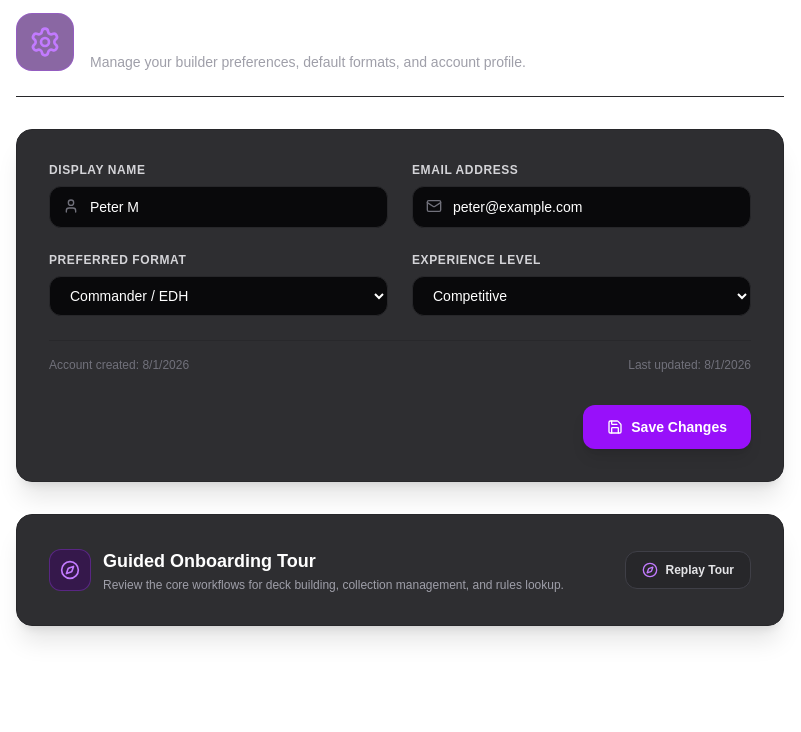
Scenario: SettingsClient Component › loads profile and updates profile fields upon form submit
Expected: the field showing "peter@example.com" is shown, [412,186,751,228]
Replace the text in the field labelled "Display Name" with "Peter The Builder" at (218, 207), box [49,186,388,228]
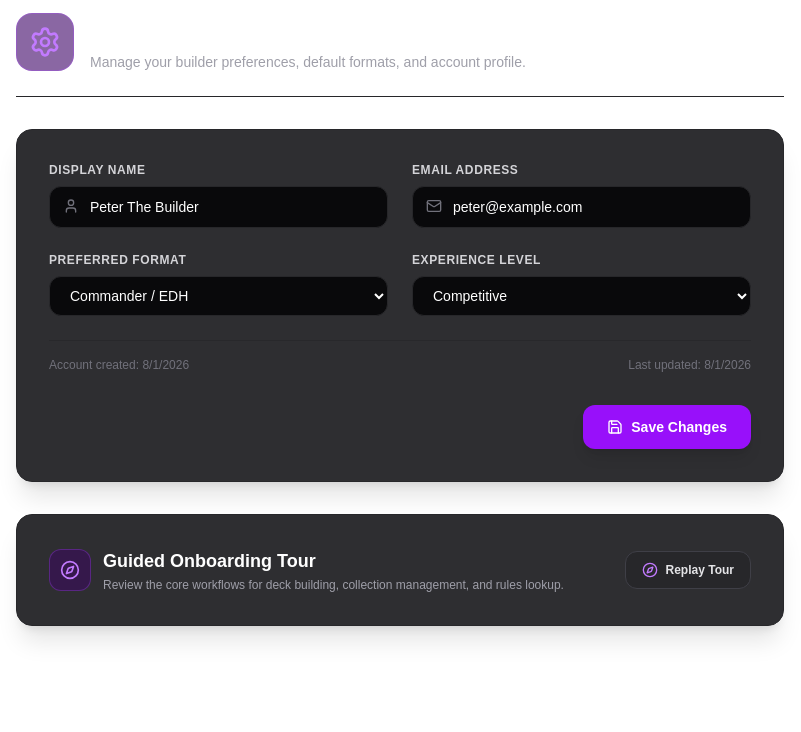
Select "Modern" in the dropdown labelled "Preferred Format" at (218, 296), box [49,276,388,316]
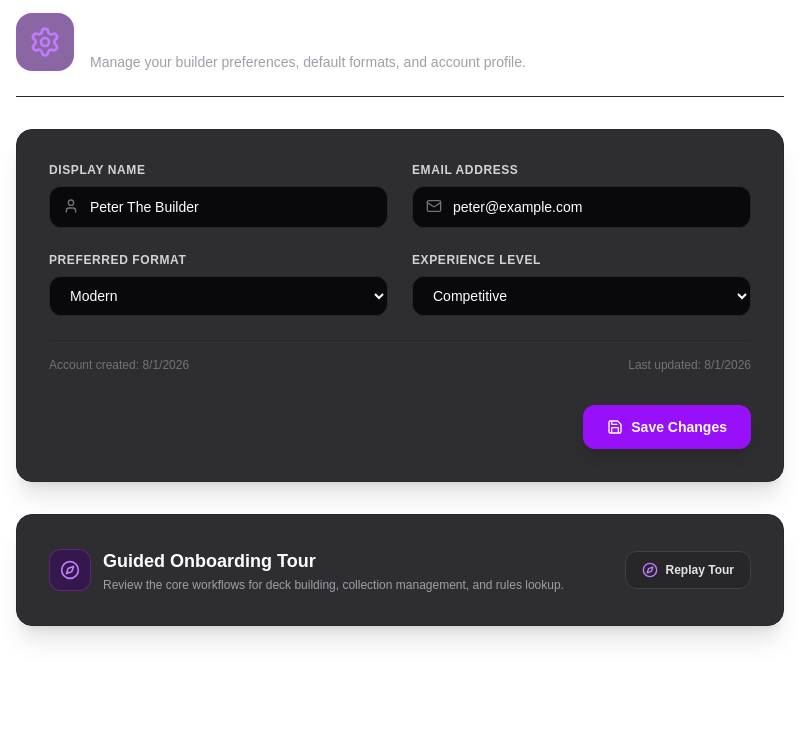
Click the button "Save Changes" at (667, 427), box [583,405,751,449]
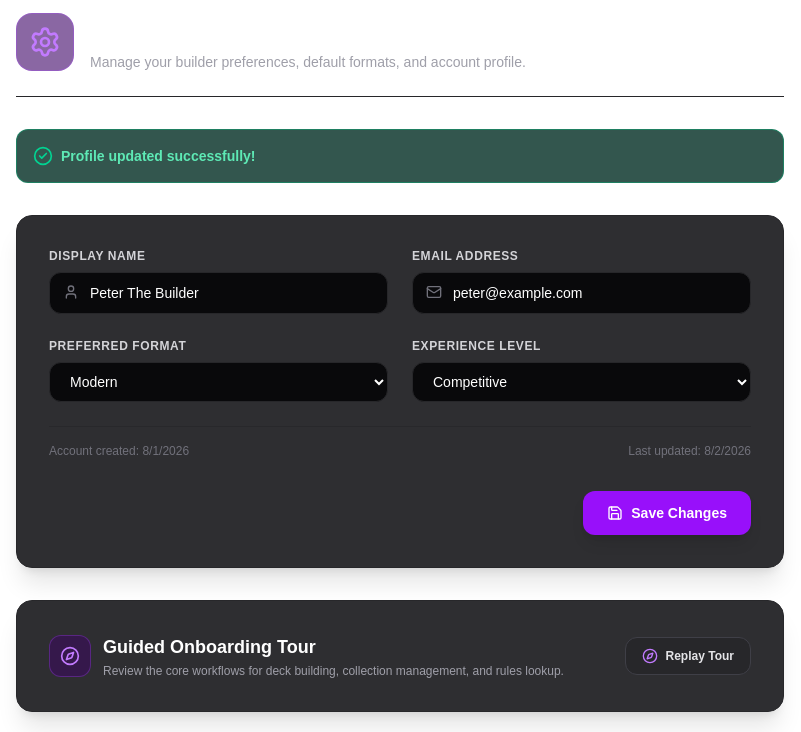
Now the text "Profile updated successfully!" is shown, box [61,146,256,166]
